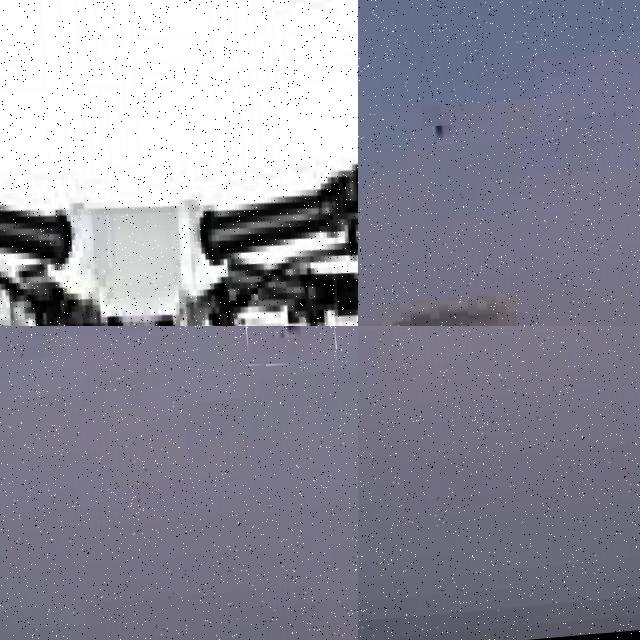0: (240, 326, 339, 367)
drone: (0, 0, 358, 326)
